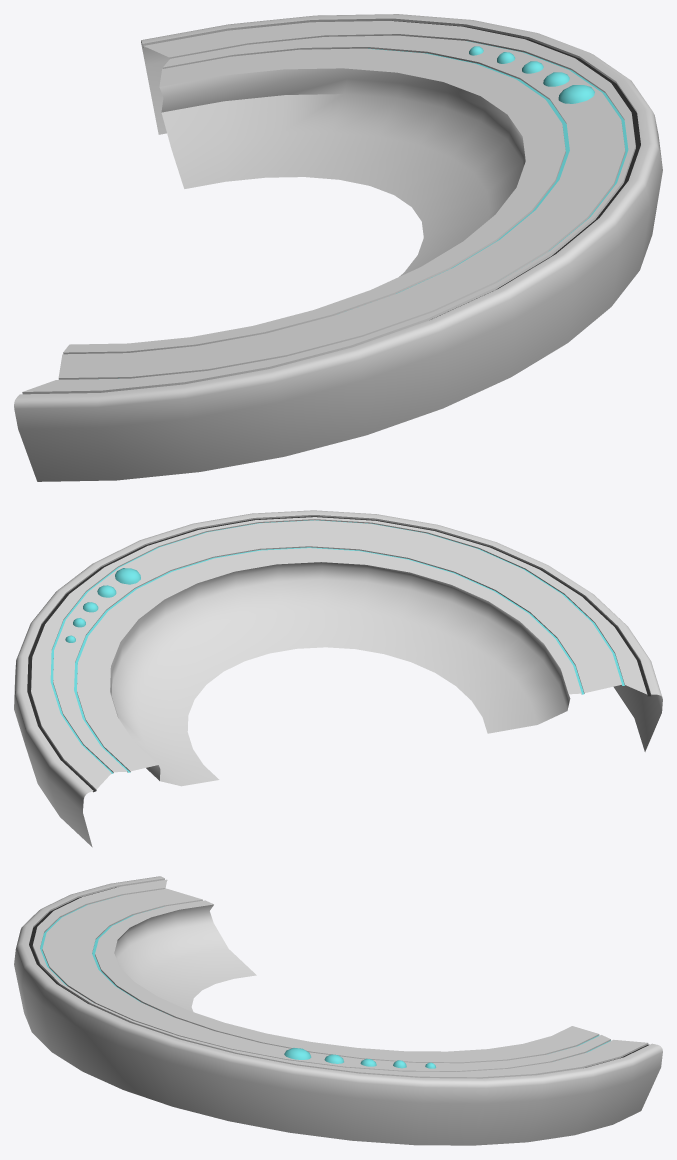
Rendered from m_Ruins_Terrain.fbx.
3 views of the same model, one above another, from view 1: azimuth 30°, elevation 25°; view 2: azimuth 150°, elevation 25°; view 3: azimuth 270°, elevation 25° (orthographic). The views are drawn at different scales.
Visible parts, largest first — view 1: BrokenTerrain; view 2: BrokenTerrain; view 3: BrokenTerrain.
Boxes of the visible parts, x1,y1,x2,y2 form: BrokenTerrain: [14, 14, 662, 481]; BrokenTerrain: [14, 510, 662, 847]; BrokenTerrain: [14, 876, 662, 1145].
Bounding box in the file's own units: 5446 × 1307 × 5780.
